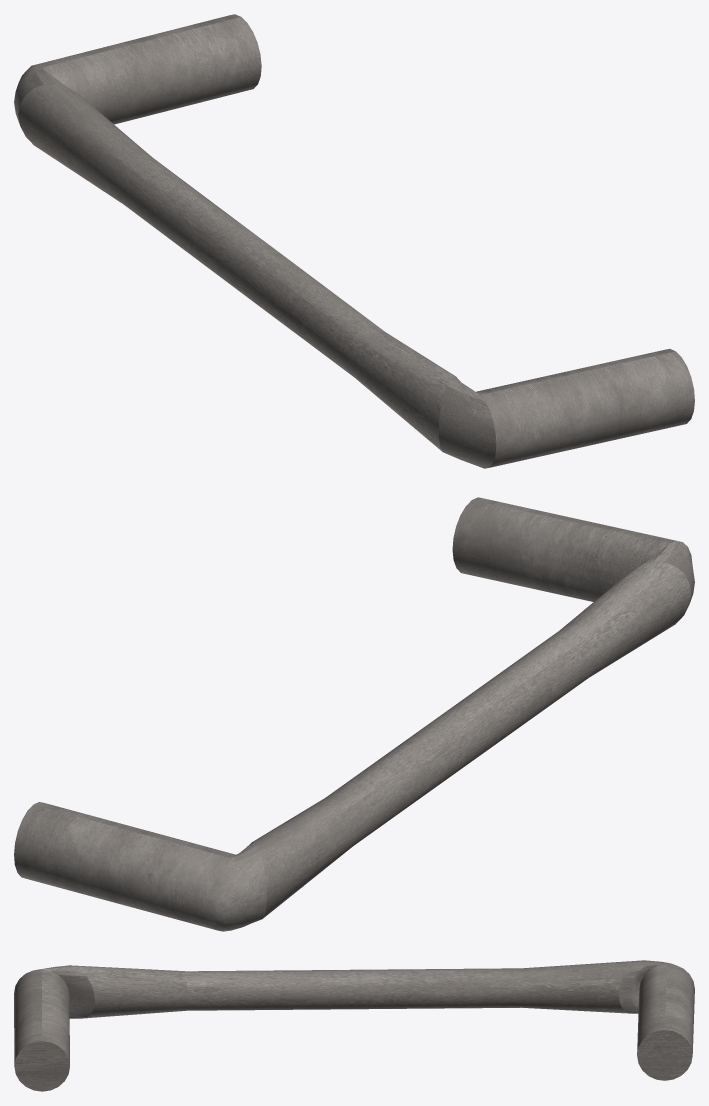
The model's file is FierroToalla.fbx.
The picture shows the model from 3 angles, top to bottom: view 1: azimuth 30°, elevation 25°; view 2: azimuth 150°, elevation 25°; view 3: azimuth 270°, elevation 25°; orthographic projection. The views are drawn at different scales.
Visible parts, largest first — view 1: tubotoalla.003; view 2: tubotoalla.003; view 3: tubotoalla.003.
Part boxes in pixels (x1=…): tubotoalla.003: x1=14, y1=14, x2=694, y2=468; tubotoalla.003: x1=14, y1=497, x2=694, y2=931; tubotoalla.003: x1=14, y1=960, x2=694, y2=1091.
Size of the model in its own units: 0.4995 by 0.181 by 1.8.
